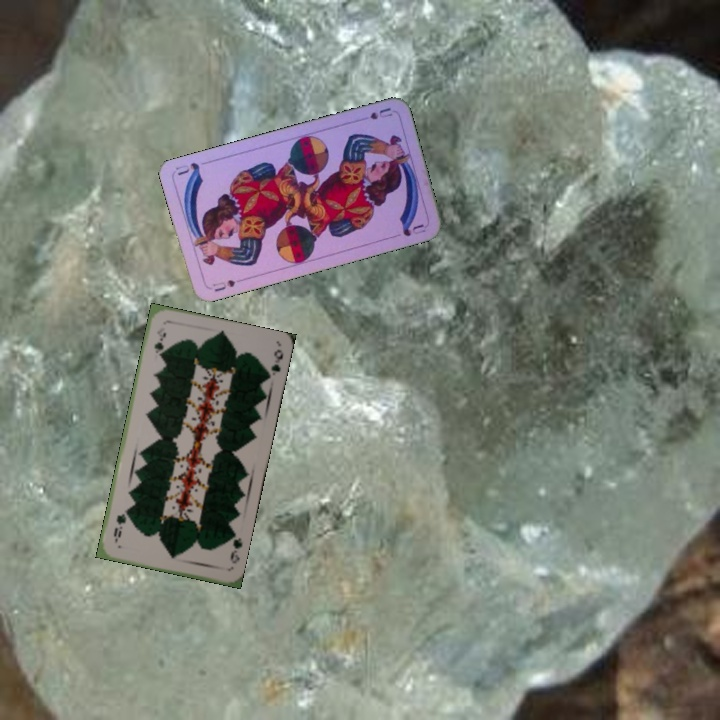G9: (226, 529, 245, 566), (150, 328, 168, 358)
SU: (354, 103, 395, 124), (209, 275, 246, 294)
